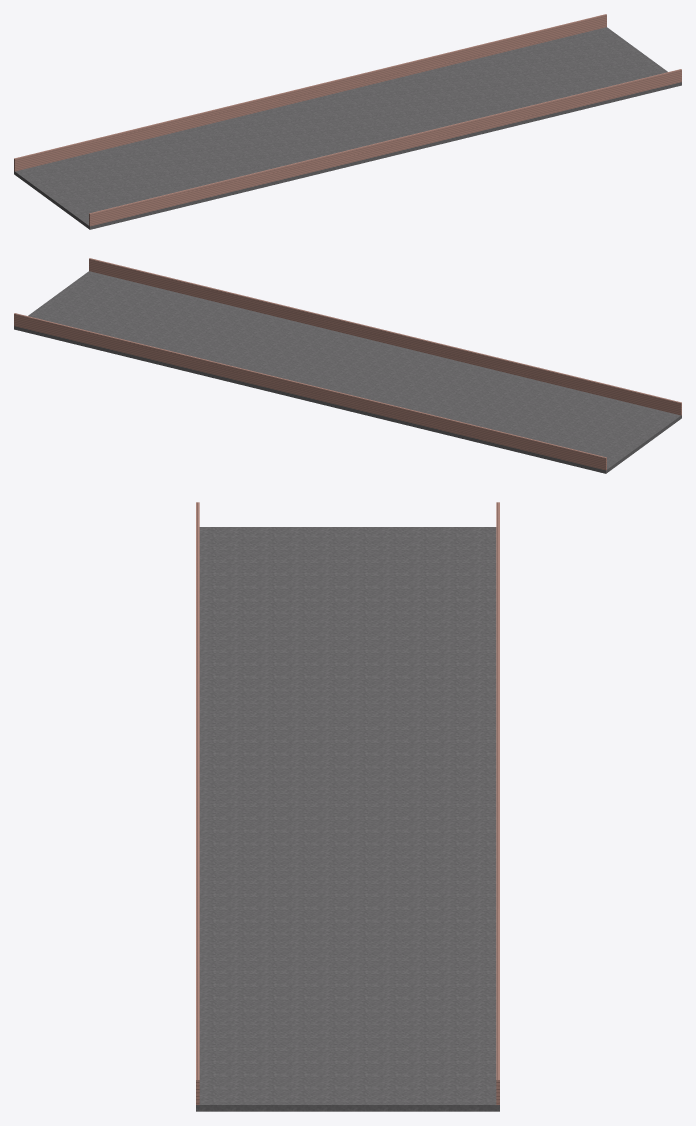
File: bridge_main_residential.glb
3 views of the same model, one above another, from view 1: azimuth 30°, elevation 25°; view 2: azimuth 150°, elevation 25°; view 3: azimuth 270°, elevation 25° (orthographic). The views are drawn at different scales.
Visible parts, largest first — view 1: bridge_main_residential-col; view 2: bridge_main_residential-col; view 3: bridge_main_residential-col.
Boxes of the visible parts, x1,y1,x2,y2 form: bridge_main_residential-col: [14, 14, 681, 229]; bridge_main_residential-col: [14, 258, 681, 473]; bridge_main_residential-col: [196, 502, 499, 1111].
Size of the model in its own units: 45 by 1.15 by 10.
Materials: 2 (2 with a texture image).
